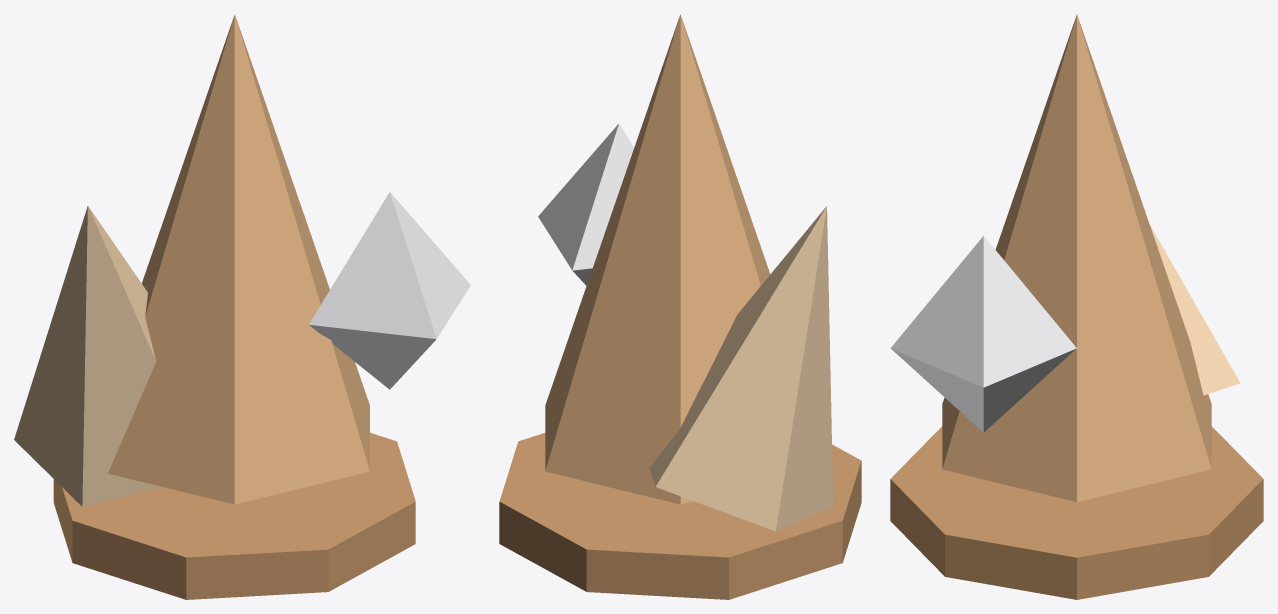
File: pyro_res_item.glb
The picture shows the model from 3 angles, left to right: view 1: azimuth 30°, elevation 25°; view 2: azimuth 150°, elevation 25°; view 3: azimuth 270°, elevation 25°; orthographic projection.
Visible parts, largest first — view 1: CopperFlame, Base, FlameSecondary, DiamondTop, DiamondBot; view 2: CopperFlame, FlameSecondary, Base, DiamondTop; view 3: CopperFlame, Base, DiamondTop, DiamondBot, FlameSecondary.
Part boxes in pixels (left/top/right/bottom): CopperFlame: left=108, top=14, right=369, bottom=504; Base: left=53, top=432, right=415, bottom=599; FlameSecondary: left=14, top=206, right=160, bottom=506; DiamondTop: left=309, top=192, right=470, bottom=339; DiamondBot: left=309, top=325, right=435, bottom=389; CopperFlame: left=545, top=14, right=770, bottom=504; FlameSecondary: left=649, top=206, right=833, bottom=531; Base: left=499, top=433, right=861, bottom=599; DiamondTop: left=538, top=123, right=633, bottom=270; CopperFlame: left=942, top=14, right=1211, bottom=502; Base: left=890, top=426, right=1263, bottom=599; DiamondTop: left=891, top=236, right=1076, bottom=387; DiamondBot: left=891, top=348, right=1075, bottom=432; FlameSecondary: left=1149, top=224, right=1240, bottom=395.
Bounding box in the file's own units: 0.13 × 0.18 × 0.12.
